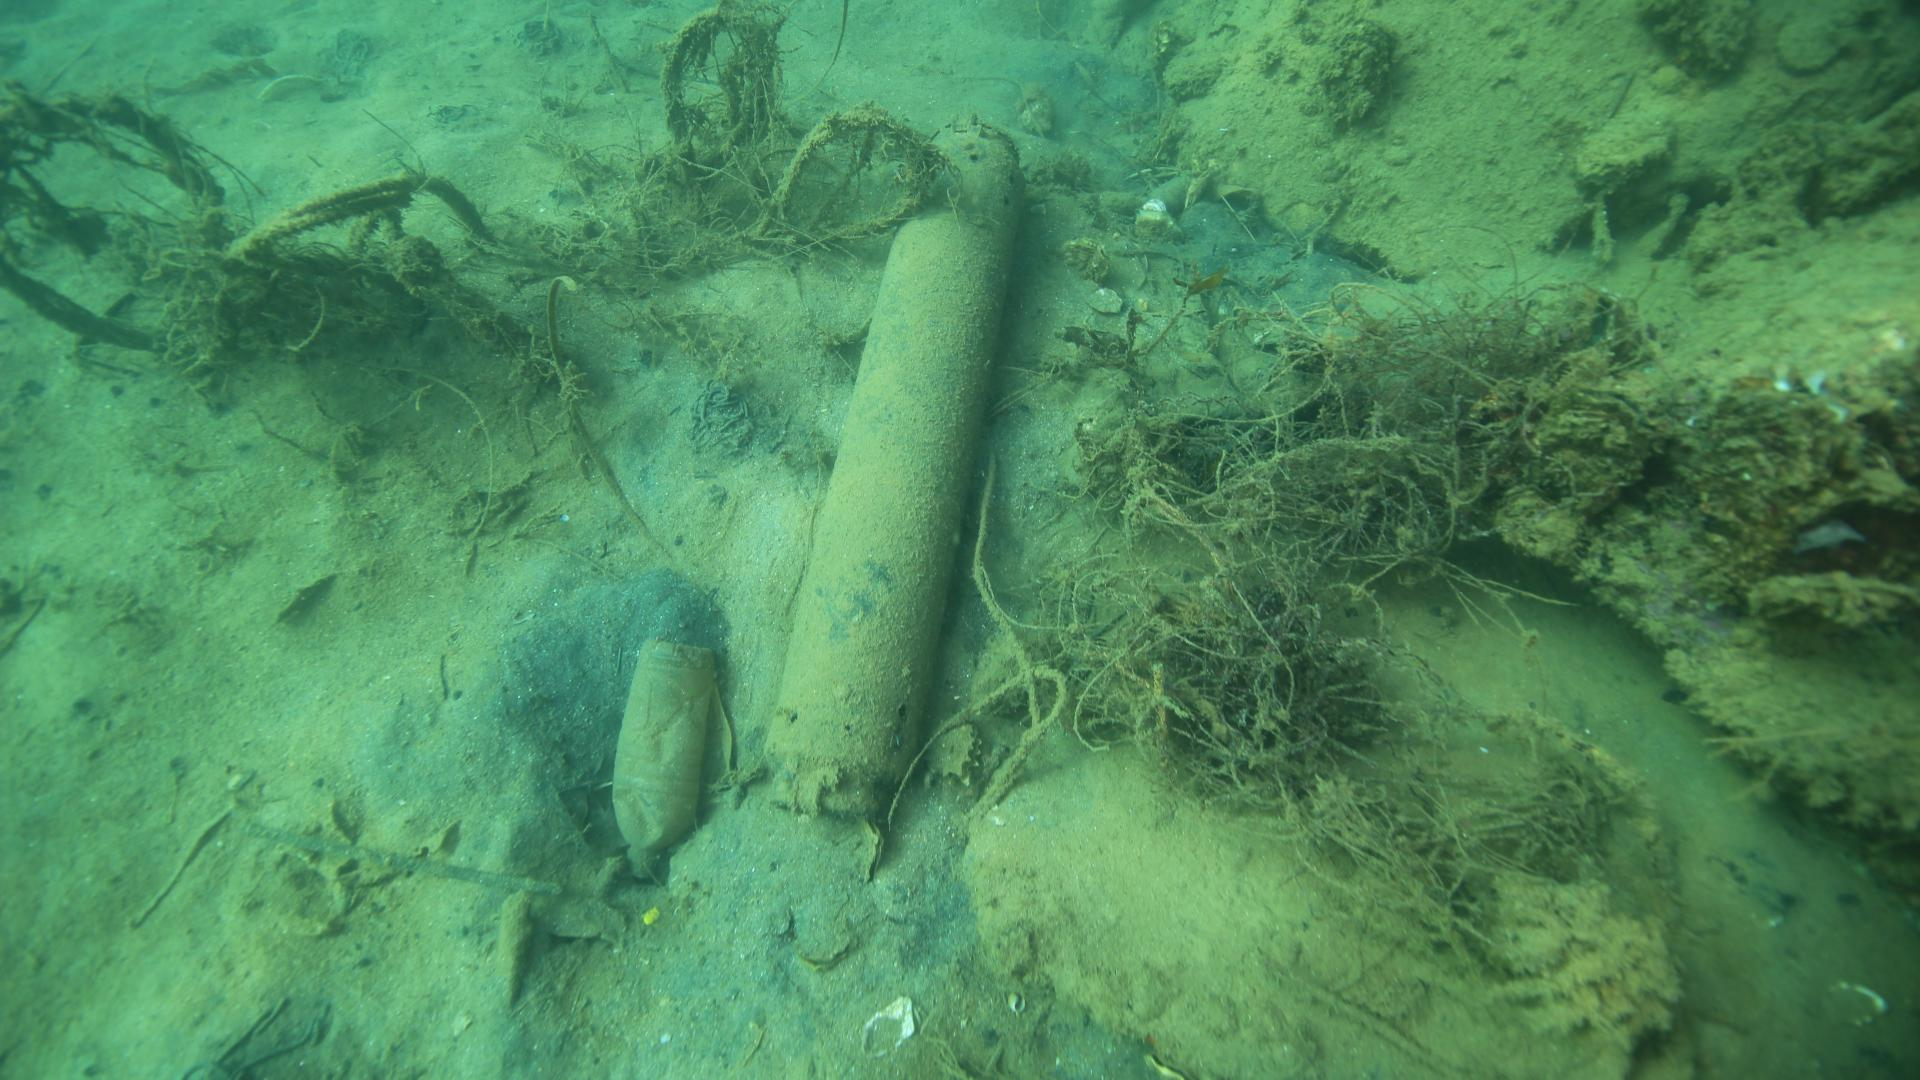eel fish trap: (761, 112, 1029, 825)
